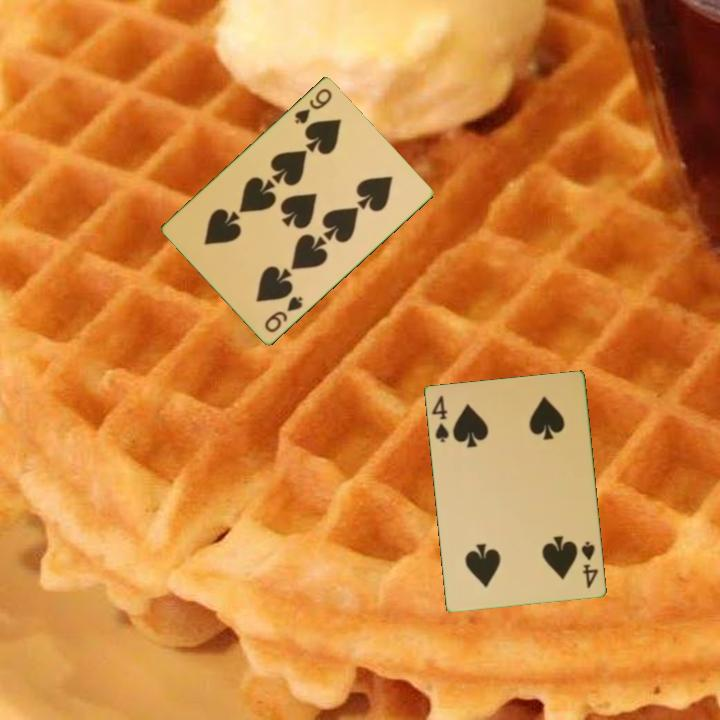4s: (428, 392, 452, 446), (578, 538, 601, 591)
9s: (261, 292, 306, 335), (291, 84, 335, 127)
